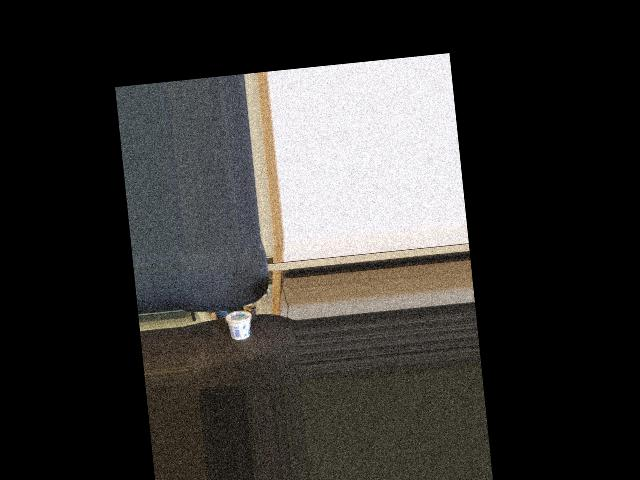cotage: (225, 308, 253, 344)
